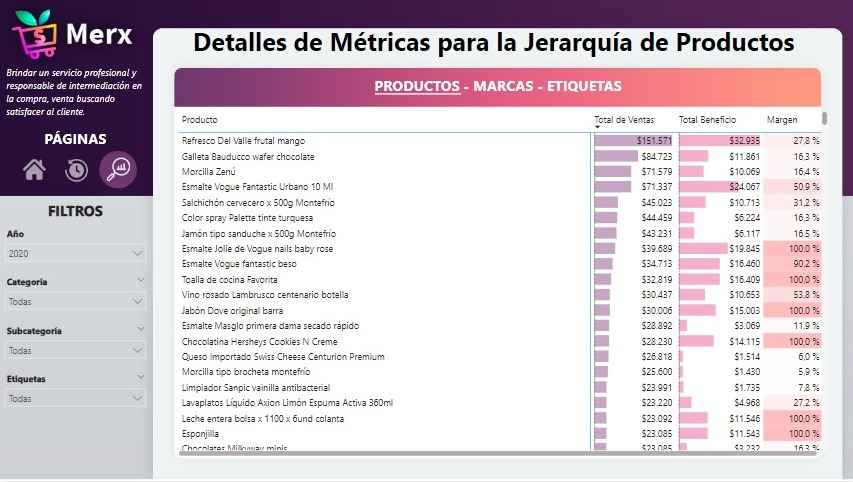

Layout of this report page (visuals, bound fields, positions):
{"tool":"powerbi","page":{"name":"3","canvas":[1280,720],"ordinal":2},"visuals":[{"type":"slicer","fields":{"Values":["Transacciones.Fecha.Variación.Jerarquía de fechas.Año"]},"box":[0,335.4,230.8,72.3],"z":0},{"type":"pivotTable","fields":{"Rows":["Transacciones.Producto","Transacciones.Marca","Transacciones.Etiquetas"],"Values":["Transacciones.Total de Ventas","Transacciones.Total Beneficio","Transacciones.Margen"]},"box":[264.3,162,979.2,524.9],"z":1000},{"type":"slicer","fields":{"Values":["Transacciones.Categoría"]},"box":[0,407.7,230.8,72.3],"z":2000},{"type":"slicer","fields":{"Values":["Transacciones.Subcategoría"]},"box":[0,480,230.8,72.3],"z":3000},{"type":"slicer","fields":{"Values":["Transacciones.Etiquetas"]},"box":[0,552.3,230.8,72.3],"z":4000},{"type":"textbox","box":[7.4,95.6,214.8,92.7],"z":5000},{"type":"textbox","box":[229,32.9,1023,63.3],"z":6000},{"type":"textbox","box":[0,188.1,230.6,49.9],"z":7000},{"type":"textbox","box":[0,295.4,230.8,40],"z":8000},{"type":"textbox","box":[264.3,108.4,964.6,51.2],"z":9000},{"type":"actionButton","box":[35.3,238.7,40.2,35.3],"z":10000},{"type":"actionButton","box":[98.6,243.6,37.8,29.2],"z":11000},{"type":"actionButton","box":[163.2,237.5,37.8,35.3],"z":12000},{"type":"actionButton","title":"Productos","box":[562.5,115.3,127.8,29.2],"z":13000},{"type":"actionButton","title":"Marcas","box":[706.9,115.3,93.1,29.2],"z":14000},{"type":"actionButton","title":"Etiquetas","box":[818.1,115.3,112.5,29.2],"z":15000},{"type":"shape","title":"Forma1","box":[562.5,119.4,127.8,44.4],"z":16000}]}

Visuals, with their boxes on the page's 1280x720 design canvas (x1, y1, x2, y2). These are canvas units, not pixel positions in the 853x482 screenshot, which may show the page scaled, cropped or inside an application window:
slicer - Transacciones.Fecha.Variación.Jerarquía de fechas.Año: <box>0,335,231,408</box>
pivotTable - Transacciones.Producto x Transacciones.Marca: <box>264,162,1244,687</box>
slicer - Transacciones.Categoría: <box>0,408,231,480</box>
slicer - Transacciones.Subcategoría: <box>0,480,231,552</box>
slicer - Transacciones.Etiquetas: <box>0,552,231,625</box>
textbox: <box>7,96,222,188</box>
textbox: <box>229,33,1252,96</box>
textbox: <box>0,188,231,238</box>
textbox: <box>0,295,231,335</box>
textbox: <box>264,108,1229,160</box>
actionButton: <box>35,239,76,274</box>
actionButton: <box>99,244,136,273</box>
actionButton: <box>163,238,201,273</box>
"Productos" actionButton: <box>562,115,690,144</box>
"Marcas" actionButton: <box>707,115,800,144</box>
"Etiquetas" actionButton: <box>818,115,931,144</box>
"Forma1" shape: <box>562,119,690,164</box>
